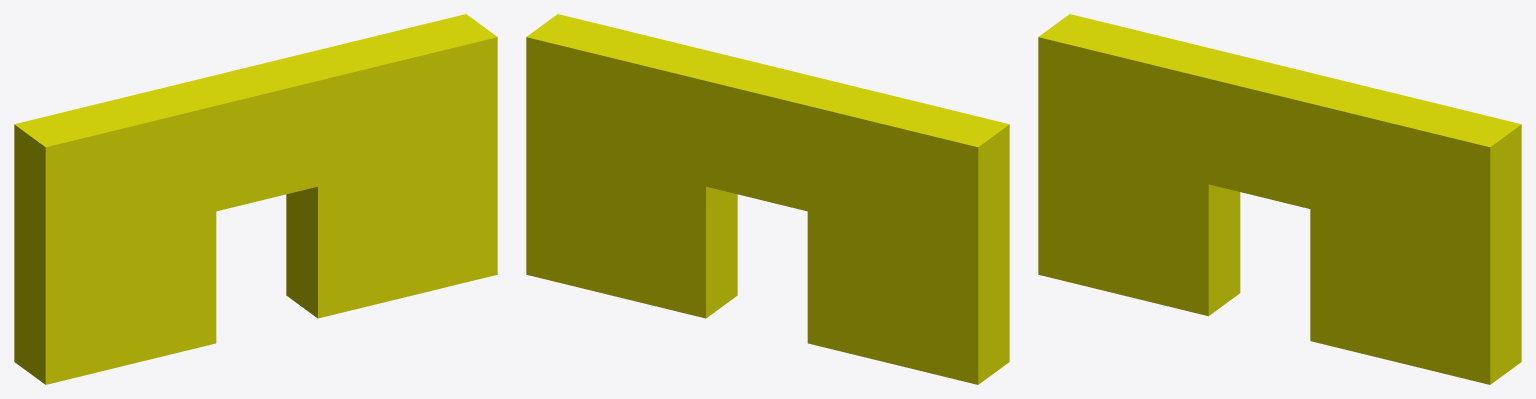
File: yellow square wall.fbx
3 views of the same model, side by side, from view 1: azimuth 30°, elevation 25°; view 2: azimuth 150°, elevation 25°; view 3: azimuth 330°, elevation 25° (orthographic).
Parts seen in each view (by area): view 1: pCube1; view 2: pCube1; view 3: pCube1.
Boxes of the visible parts, x1,y1,x2,y2 form: pCube1: [14, 14, 497, 384]; pCube1: [526, 14, 1009, 384]; pCube1: [1038, 14, 1521, 384].
Bounding box in the file's own units: 1.99 × 1 × 0.2405.
